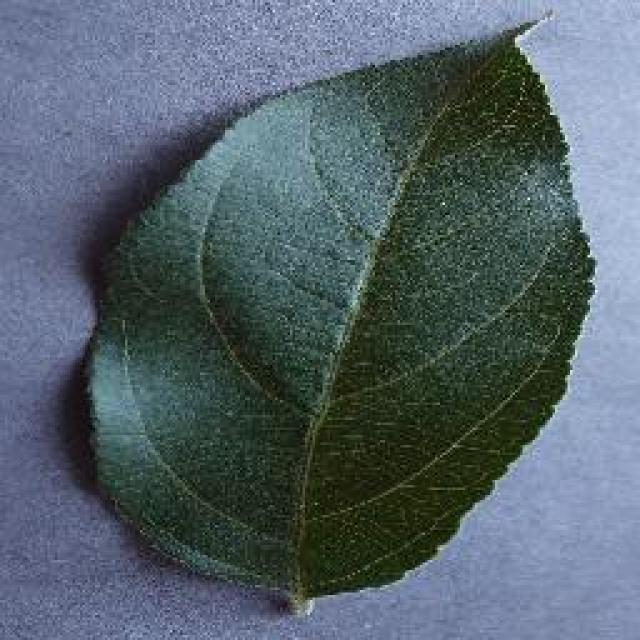apple healthy: (78, 8, 598, 618)
